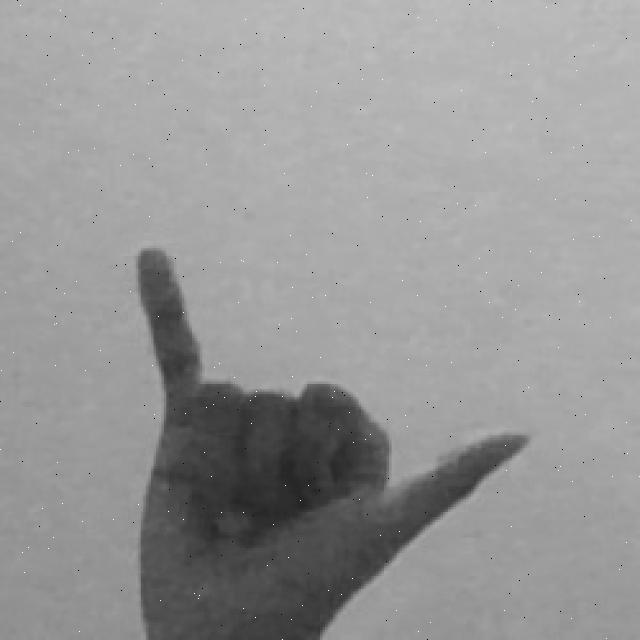Y: (124, 240, 536, 640)
